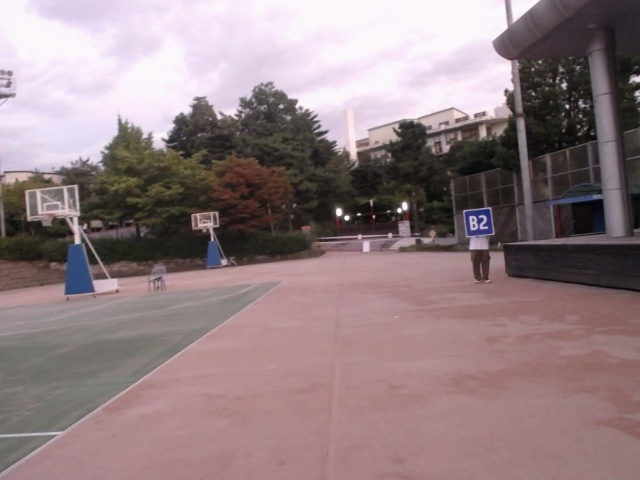delivery_b2: (462, 208, 495, 238)
